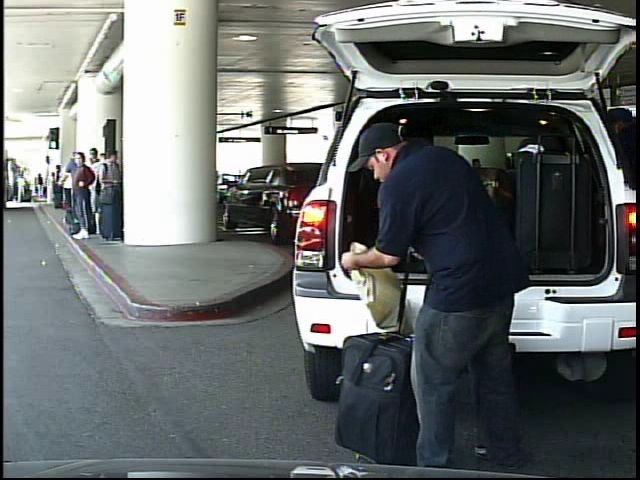person: (339, 110, 527, 471), (17, 174, 28, 205), (35, 172, 46, 200)
